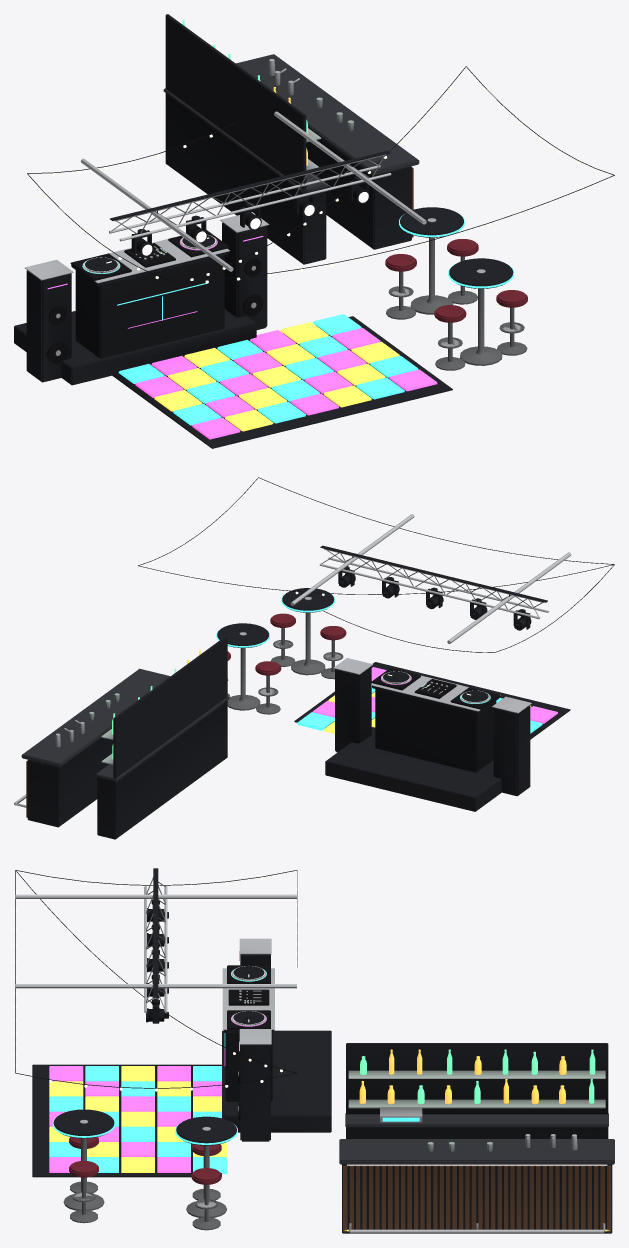
File: bar324.glb
3 renders of one model, top to bottom at view 1: azimuth 30°, elevation 25°; view 2: azimuth 150°, elevation 25°; view 3: azimuth 270°, elevation 25°, orthographic. The views are drawn at different scales.
Visible parts, largest first — view 1: bar324-black, bar324-steel, bar324-floor-ledB, bar324-floor-ledA, bar324-floor-ledC, bar324-stone, bar324-rubber, bar324-leather, bar324-ledA, bar324-ledW; view 2: bar324-black, bar324-steel, bar324-stone, bar324-rubber, bar324-leather, bar324-floor-ledB, bar324-floor-ledA; view 3: bar324-black, bar324-wood, bar324-steel, bar324-stone, bar324-floor-ledA, bar324-floor-ledB, bar324-floor-ledC, bar324-glass, bar324-rubber, bar324-leather, bar324-bottleA, bar324-bottleB (+2 smaller).
Boxes of the visible parts, box(x1,y1,x2,y2) form: bar324-black: box(14, 14, 513, 448); bar324-steel: box(24, 59, 527, 370); bar324-floor-ledB: box(135, 328, 437, 439); bar324-floor-ledA: box(118, 314, 418, 425); bar324-floor-ledC: box(154, 322, 399, 431); bar324-stone: box(163, 54, 419, 190); bar324-rubber: box(27, 66, 614, 363); bar324-leather: box(385, 239, 527, 322); bar324-ledA: box(82, 214, 514, 320); bar324-ledW: box(44, 86, 597, 283); bar324-black: box(27, 545, 570, 839); bar324-steel: box(14, 514, 571, 807); bar324-stone: box(21, 668, 229, 781); bar324-rubber: box(138, 477, 614, 709); bar324-leather: box(227, 613, 346, 675); bar324-floor-ledB: box(312, 667, 557, 727); bar324-floor-ledA: box(297, 683, 542, 733); bar324-black: box(32, 868, 612, 1233); bar324-wood: box(343, 1165, 611, 1232); bar324-steel: box(15, 877, 605, 1233); bar324-stone: box(339, 1113, 614, 1164); bar324-floor-ledA: box(49, 1066, 226, 1173); bar324-floor-ledB: box(49, 1066, 221, 1172); bar324-floor-ledC: box(49, 1066, 226, 1172); bar324-glass: box(348, 1070, 605, 1151); bar324-rubber: box(15, 870, 297, 1120); bar324-leather: box(69, 1137, 221, 1184); bar324-bottleA: box(359, 1049, 566, 1104); bar324-bottleB: box(360, 1049, 595, 1104).
Bounding box in the file's own units: 5.91 × 2.36 × 7.11.
